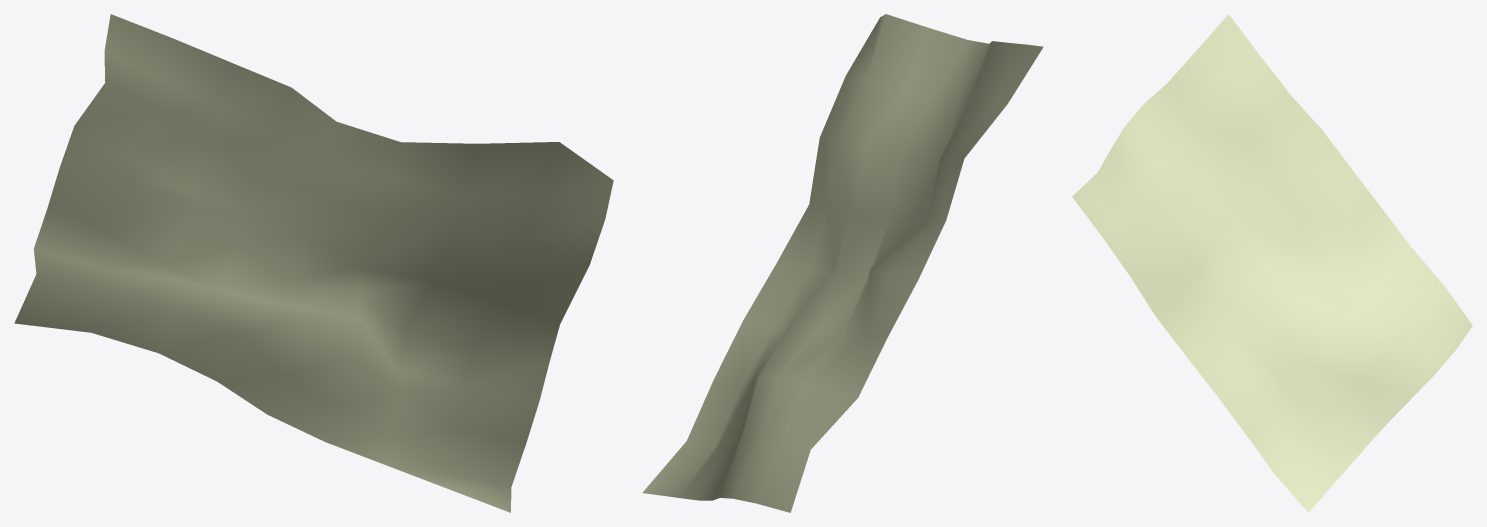
Rendered from page.glb.
3 views of the same model, side by side, from view 1: azimuth 30°, elevation 25°; view 2: azimuth 150°, elevation 25°; view 3: azimuth 270°, elevation 25° (orthographic). The views are drawn at different scales.
Visible parts, largest first — view 1: Plane; view 2: Plane; view 3: Plane.
Part boxes in pixels (x1,y1,x2,y2): Plane: (14, 14, 613, 512); Plane: (642, 14, 1043, 512); Plane: (1072, 14, 1472, 512).
Bounding box in the file's own units: 1.54 × 2.08 × 2.04.
